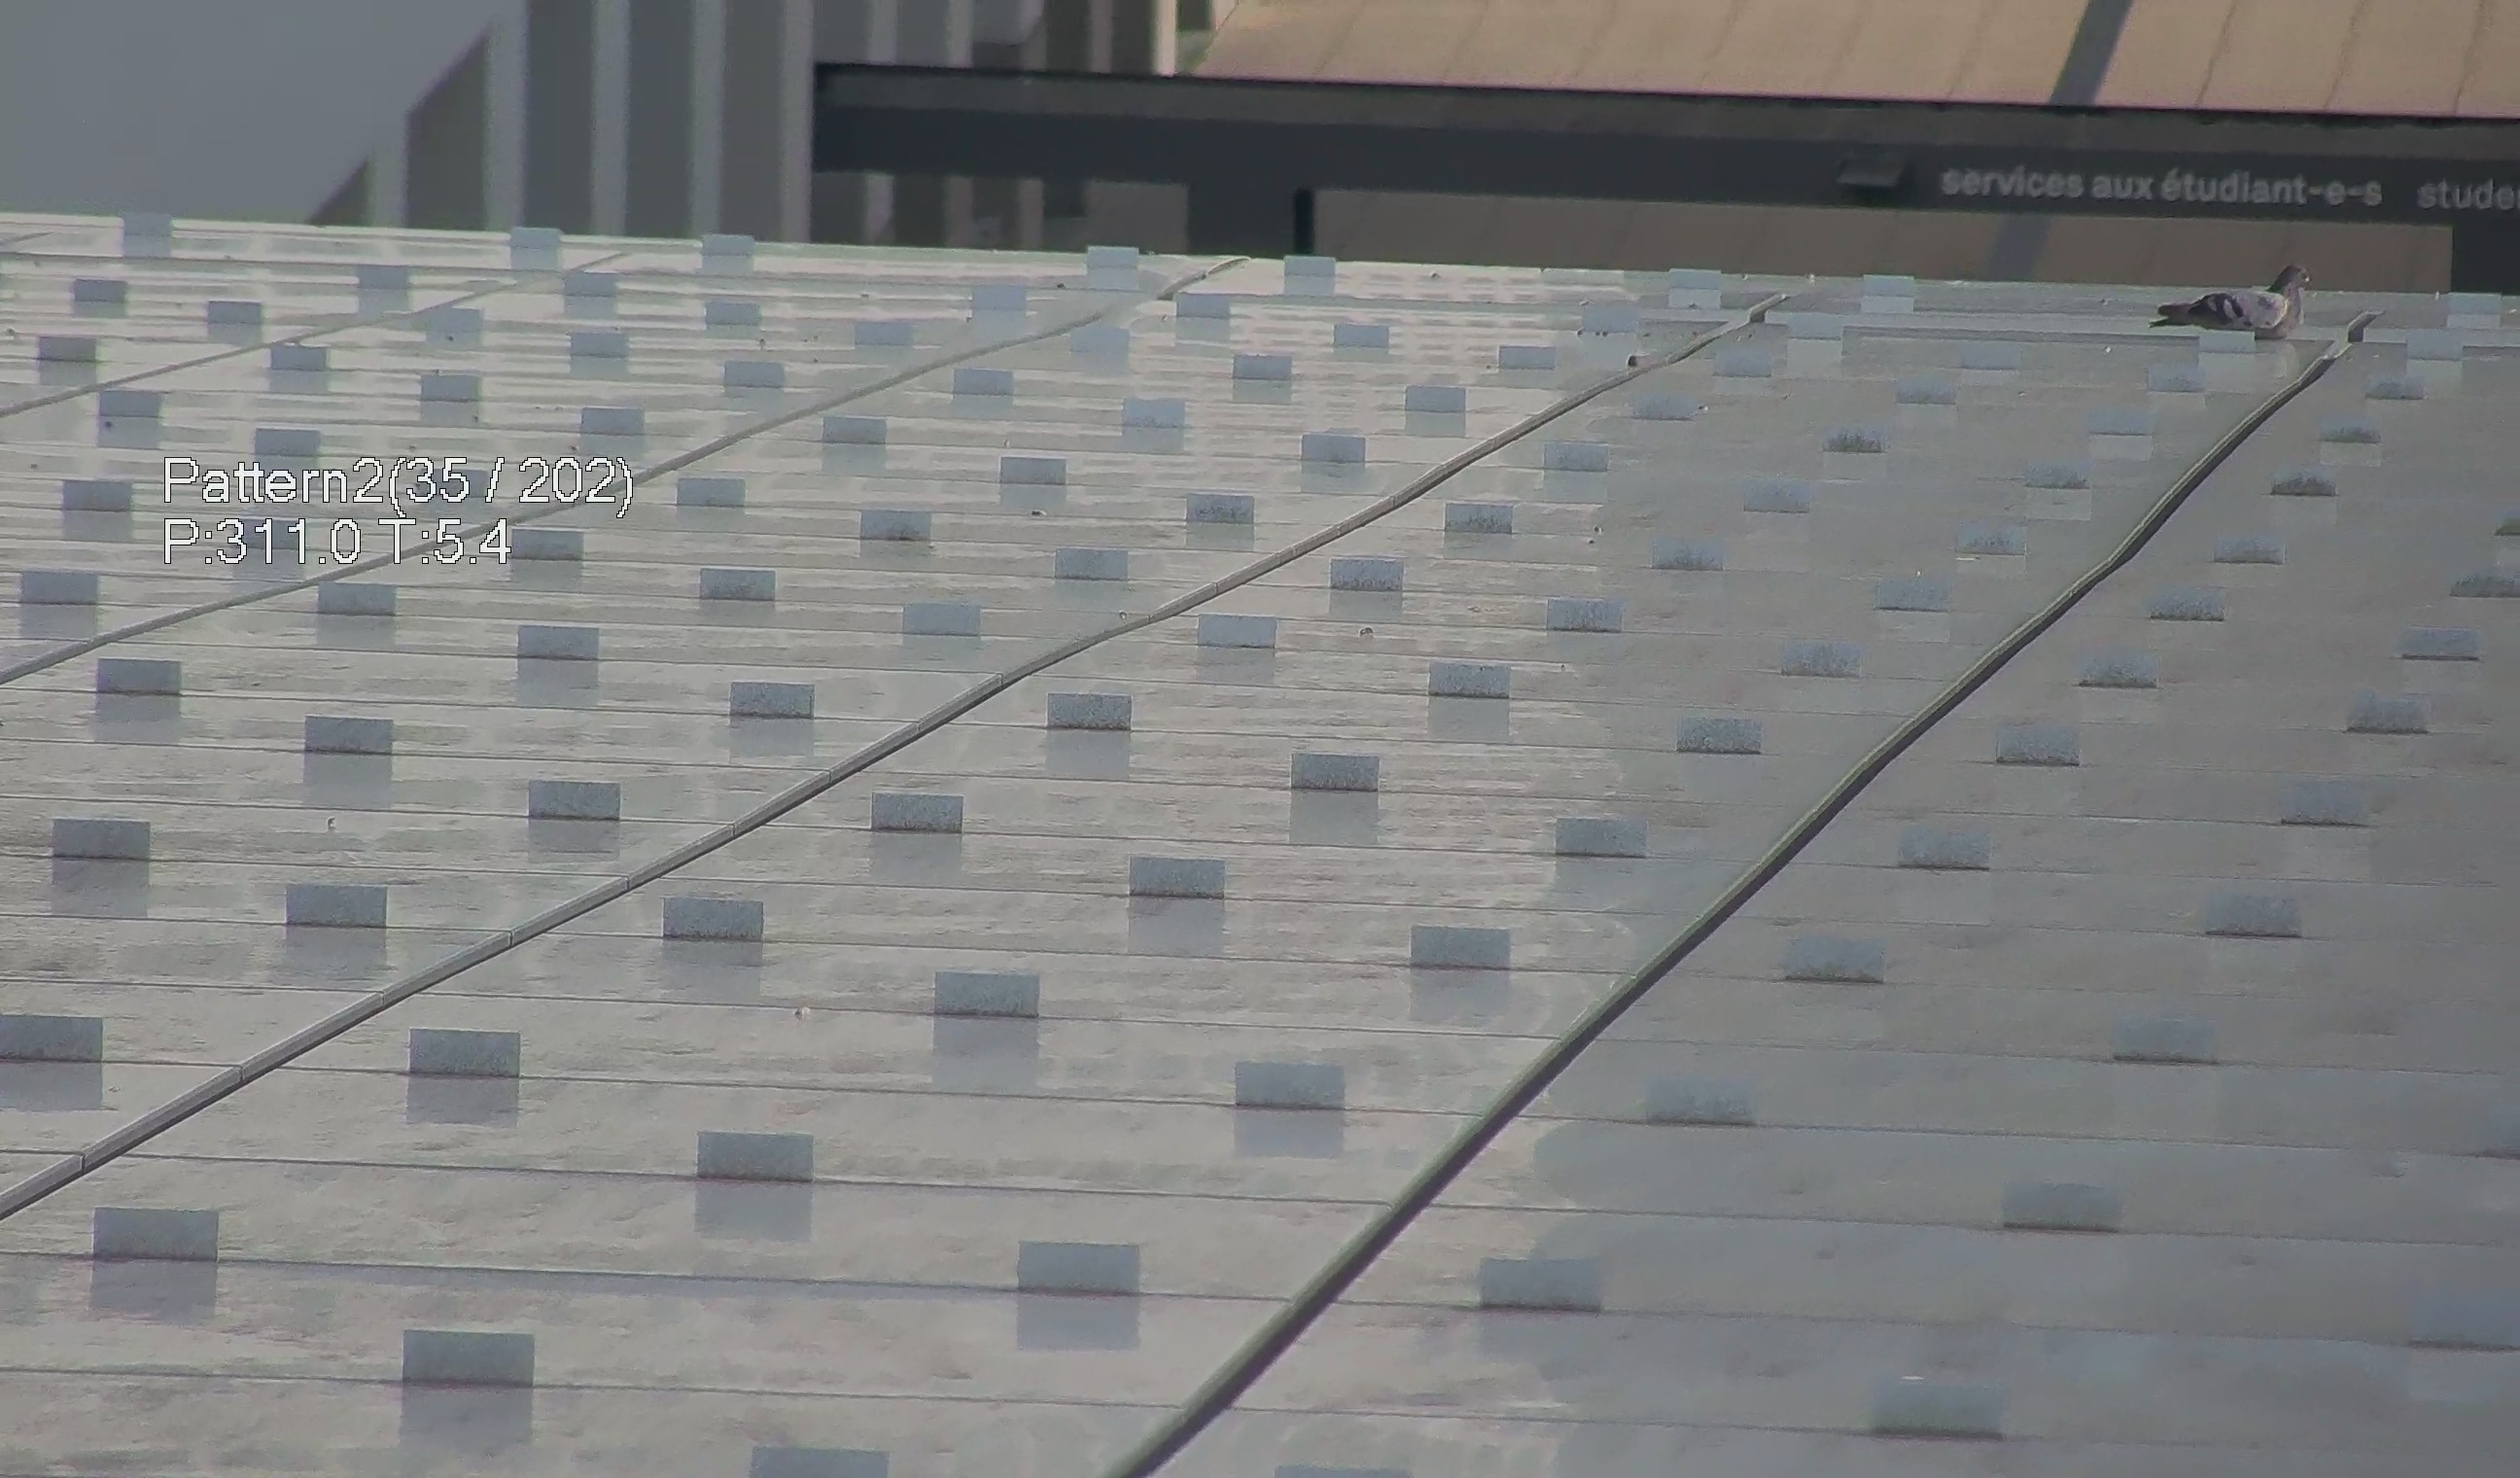Pigeon: (2156, 253, 2323, 338)
